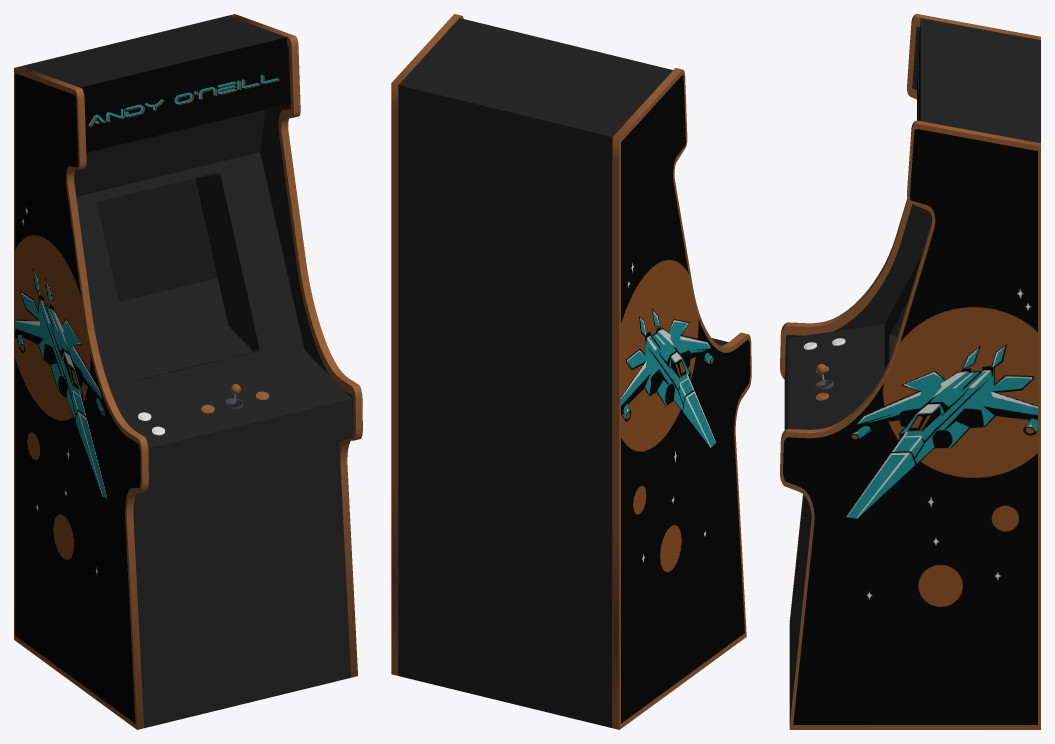
The model's file is arcade_machine_final.glb.
3 views of the same model, side by side, from view 1: azimuth 30°, elevation 25°; view 2: azimuth 150°, elevation 25°; view 3: azimuth 270°, elevation 25° (orthographic). The views are drawn at different scales.
Visible parts, largest first — view 1: Cube.001, Cube.002, Cube, Cube.004; view 2: Cube.002, Cube.001, Cube, Cube.004; view 3: Cube.004, Cube.002, Cube.001, Cube.
Boxes of the visible parts, <box> form: Cube.001: <box>113,278,352,727</box>; Cube.002: <box>21,15,304,396</box>; Cube: <box>14,66,148,729</box>; Cube.004: <box>228,14,362,677</box>; Cube.002: <box>398,18,672,431</box>; Cube.001: <box>398,338,728,727</box>; Cube: <box>612,68,751,729</box>; Cube.004: <box>391,14,463,675</box>; Cube.004: <box>780,120,1040,729</box>; Cube.002: <box>884,18,1040,369</box>; Cube.001: <box>784,324,884,725</box>; Cube: <box>780,14,1040,623</box>.
Size of the model in its own units: 4.32 by 11.1 by 4.33.
Materials: 11 (7 with a texture image).
